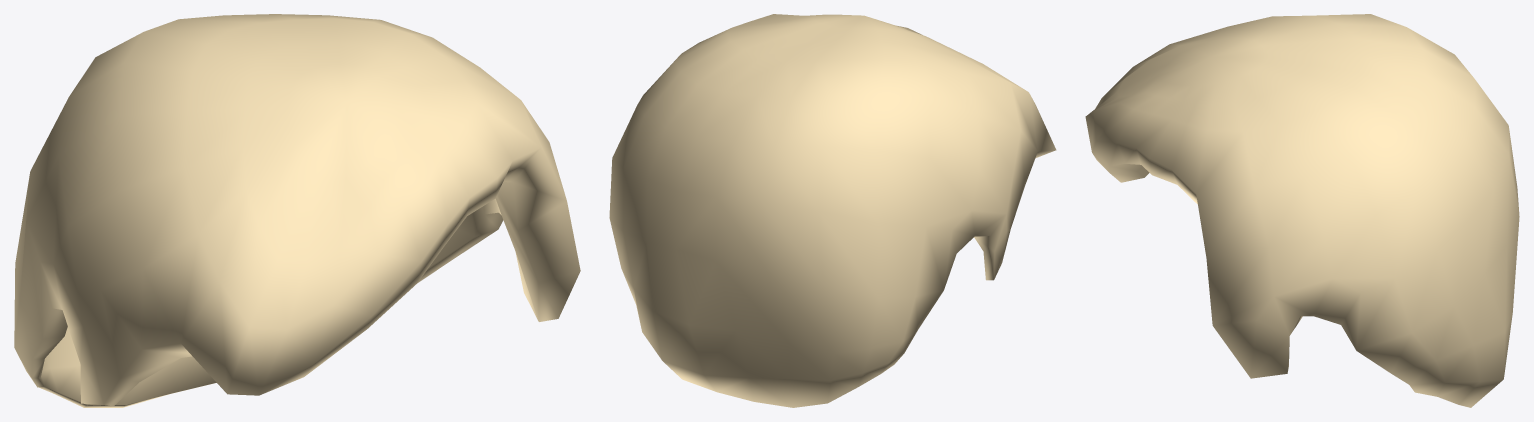
The model's file is hairShort.fbx.
3 views of the same model, side by side, from view 1: azimuth 30°, elevation 25°; view 2: azimuth 150°, elevation 25°; view 3: azimuth 270°, elevation 25° (orthographic). The views are drawn at different scales.
Parts seen in each view (by area): view 1: hairsShort; view 2: hairsShort; view 3: hairsShort.
Part boxes in pixels (bbox=[...]): hairsShort: bbox=[14, 14, 580, 407]; hairsShort: bbox=[609, 14, 1056, 407]; hairsShort: bbox=[1085, 14, 1519, 407].
Size of the model in its own units: 48.08 by 40.12 by 47.41.
